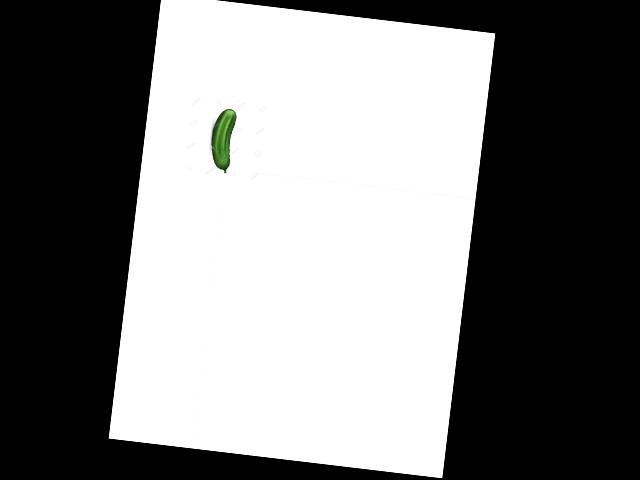cucumber: (207, 107, 237, 173)
